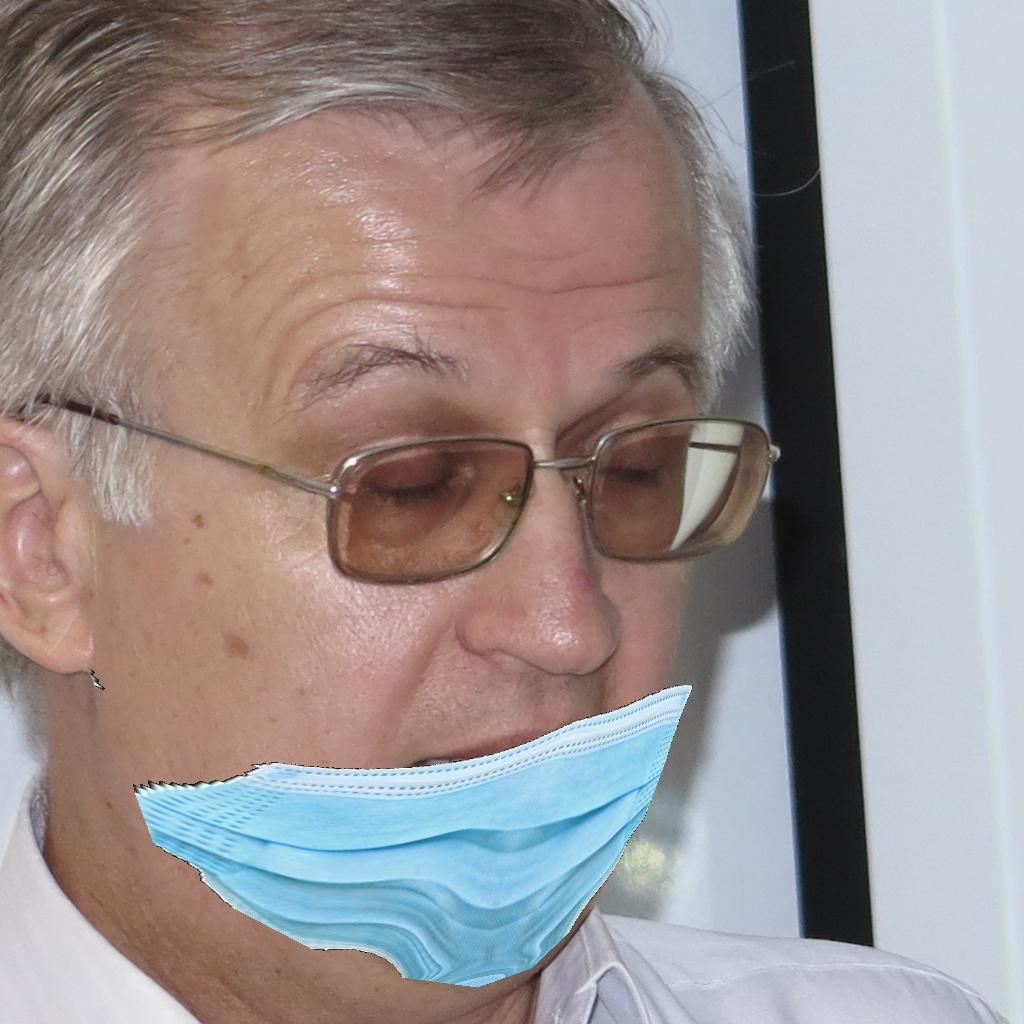Máscara Incorreta: (145, 216, 707, 950)
